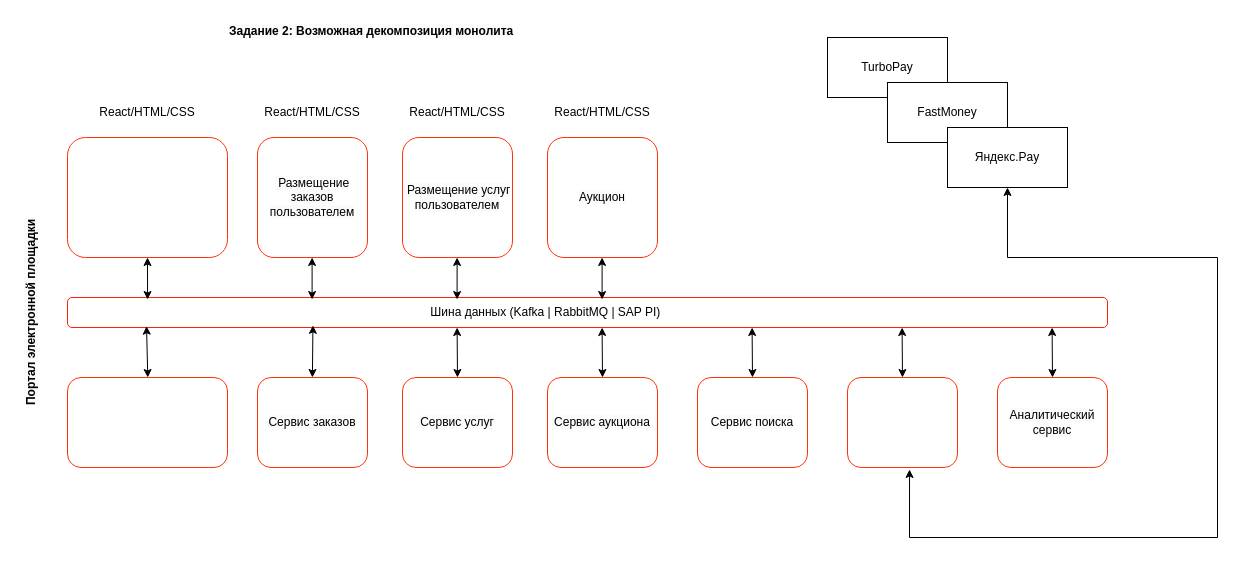
Image size: 1244x564. Some labels were removed from this diagram. The centre of each missing label's shape, as x and y in pixels:
"Регистрация и редактирование профиля пользователя" goes at [147,197].
"Сервис авторизации" goes at [147,422].
"Сервис оплаты" goes at [902,422].
